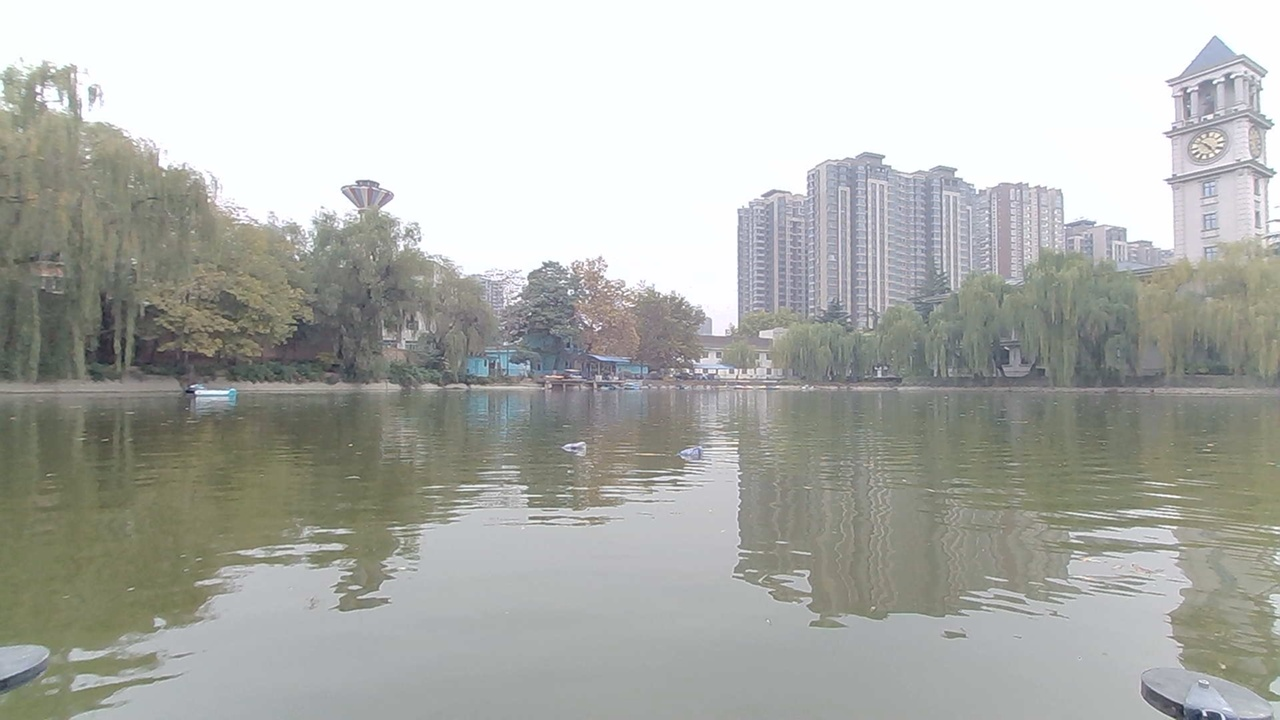bottle: (557, 430, 596, 456), (679, 446, 712, 463)
